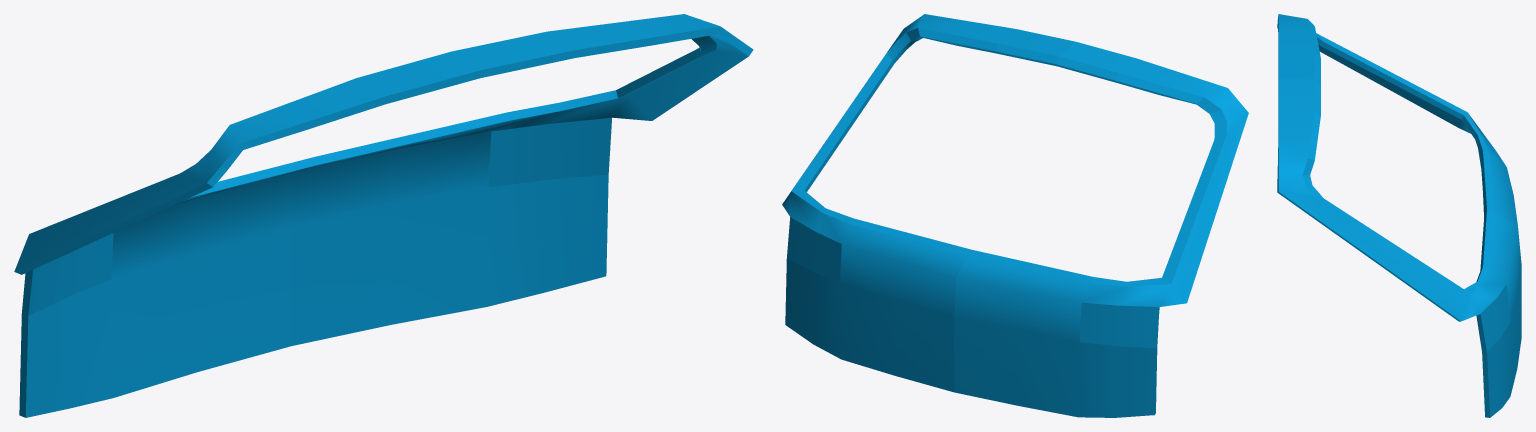
The model's file is Car_Back_Door.fbx.
3 views of the same model, side by side, from view 1: azimuth 30°, elevation 25°; view 2: azimuth 150°, elevation 25°; view 3: azimuth 270°, elevation 25° (orthographic). The views are drawn at different scales.
Visible parts, largest first — view 1: Car_Back_Door; view 2: Car_Back_Door; view 3: Car_Back_Door.
Part boxes in pixels (x1,y1,x2,y2): Car_Back_Door: [14, 14, 753, 417]; Car_Back_Door: [782, 14, 1248, 417]; Car_Back_Door: [1277, 14, 1521, 417].
Size of the model in its own units: 142 by 87.5 by 74.3.
